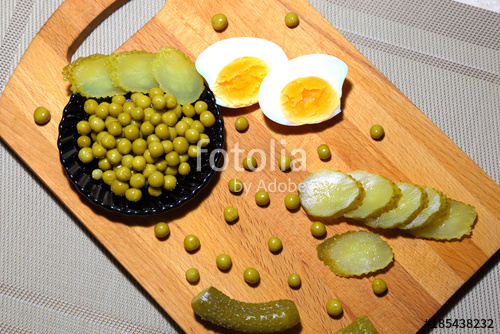boiled peas: (77, 96, 209, 207)
